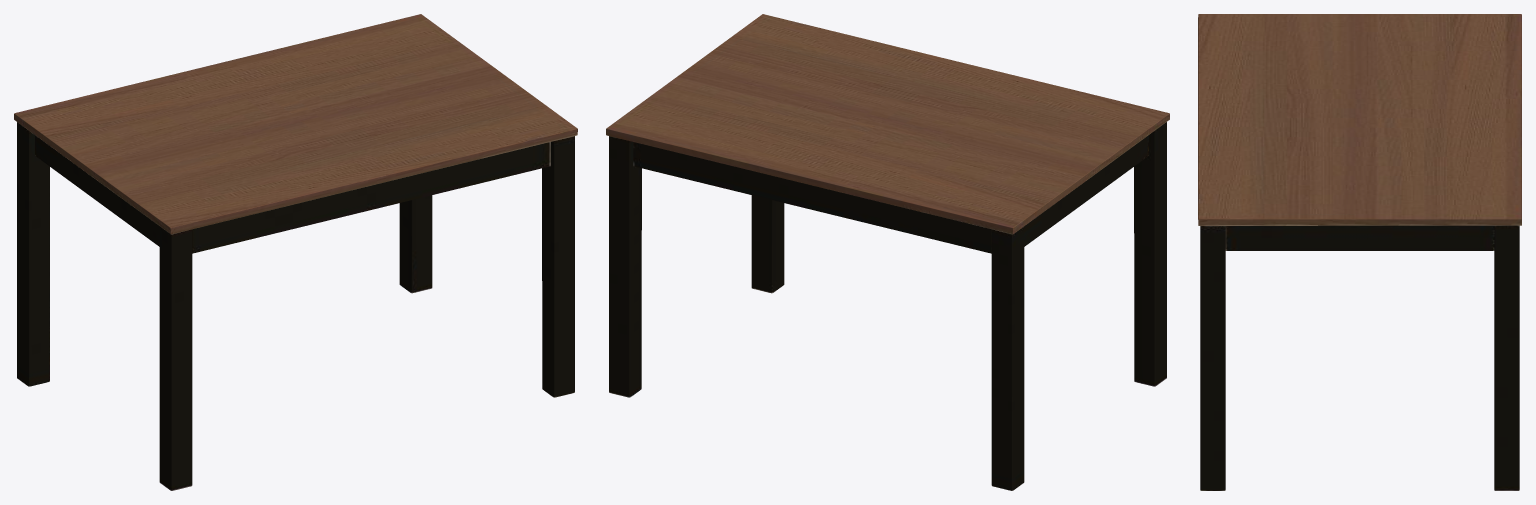
File: 15 - ÅLHULT Table - blackbrown 120x80 cm.glb
The picture shows the model from 3 angles, left to right: view 1: azimuth 30°, elevation 25°; view 2: azimuth 150°, elevation 25°; view 3: azimuth 270°, elevation 25°; orthographic projection. The views are drawn at different scales.
Visible parts, largest first — view 1: ASY_ART_40600793_S01_NV01; view 2: ASY_ART_40600793_S01_NV01; view 3: ASY_ART_40600793_S01_NV01.
Boxes of the visible parts, box(x1,y1,x2,y2) form: ASY_ART_40600793_S01_NV01: box(14, 14, 577, 490); ASY_ART_40600793_S01_NV01: box(606, 14, 1169, 490); ASY_ART_40600793_S01_NV01: box(1198, 14, 1521, 490).
Bounding box in the file's own units: 1.2 × 0.7472 × 0.8002.
1 material, 1 textured.
